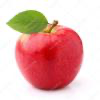Apple leaf: (6, 10, 49, 35)
